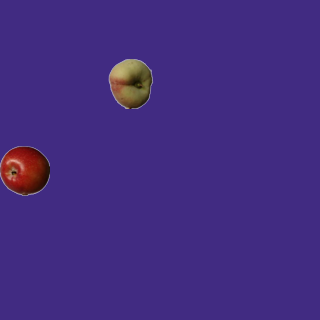Apple Braeburn: (0, 145, 49, 195)
Peach Flat: (105, 58, 155, 108)
